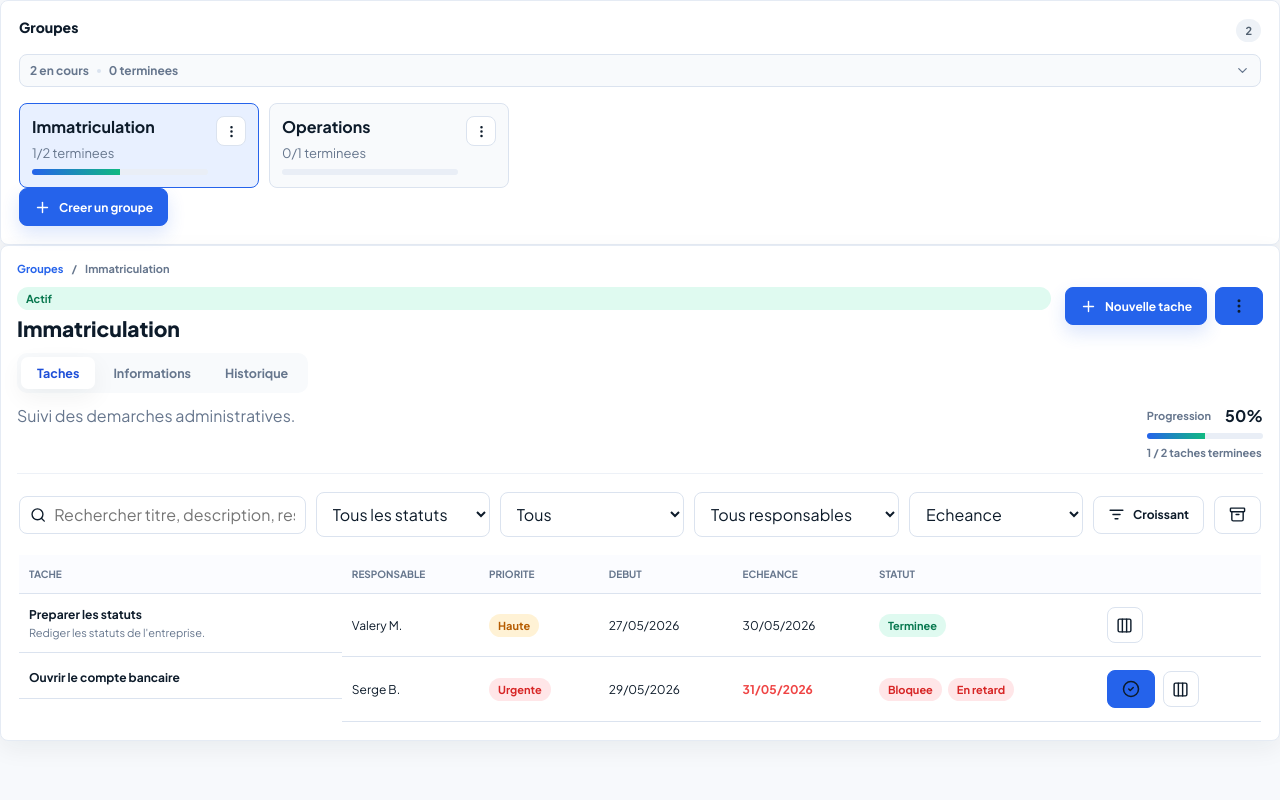
Scenario: TaskWorkspace › shows an empty message when no group matches the completion filter
Click the button "2 en cours 0 terminees": (63, 70) [19, 54, 1261, 87]
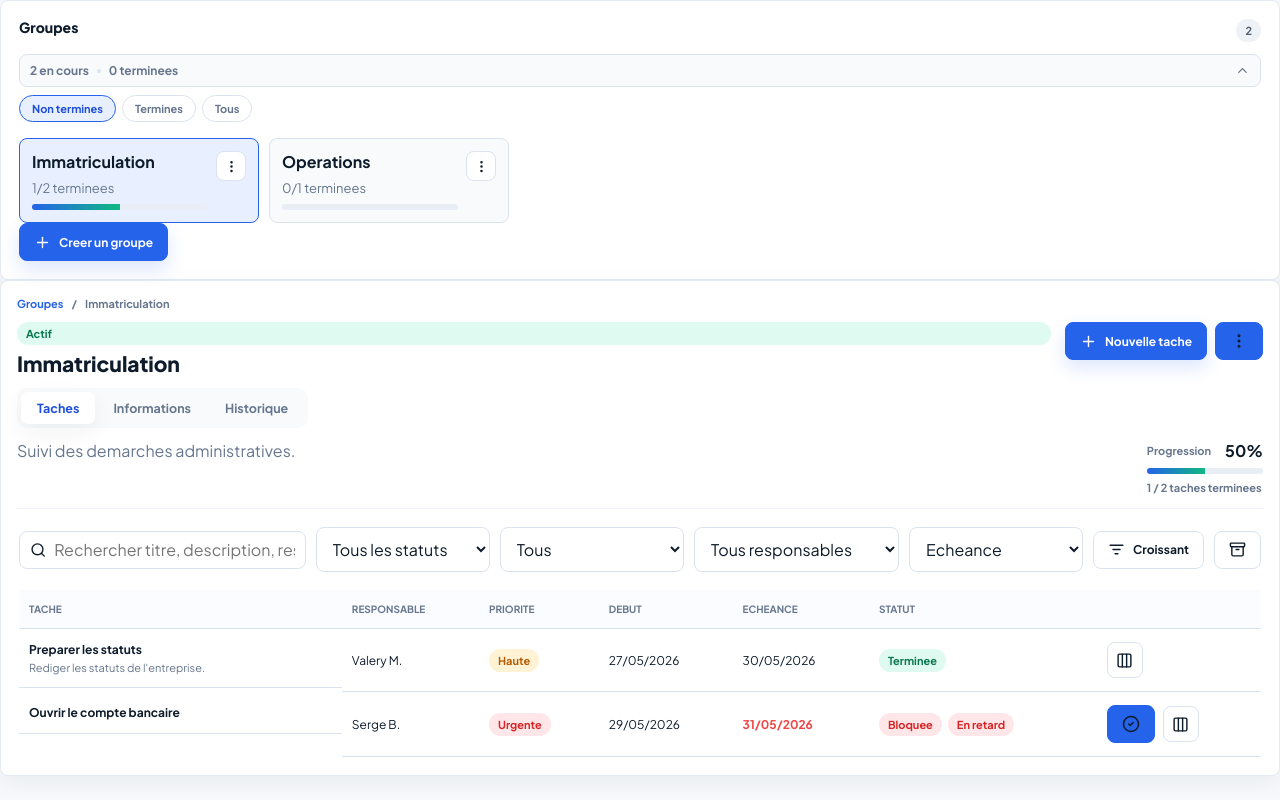
Click the button "Termines": (159, 108) [122, 95, 196, 122]
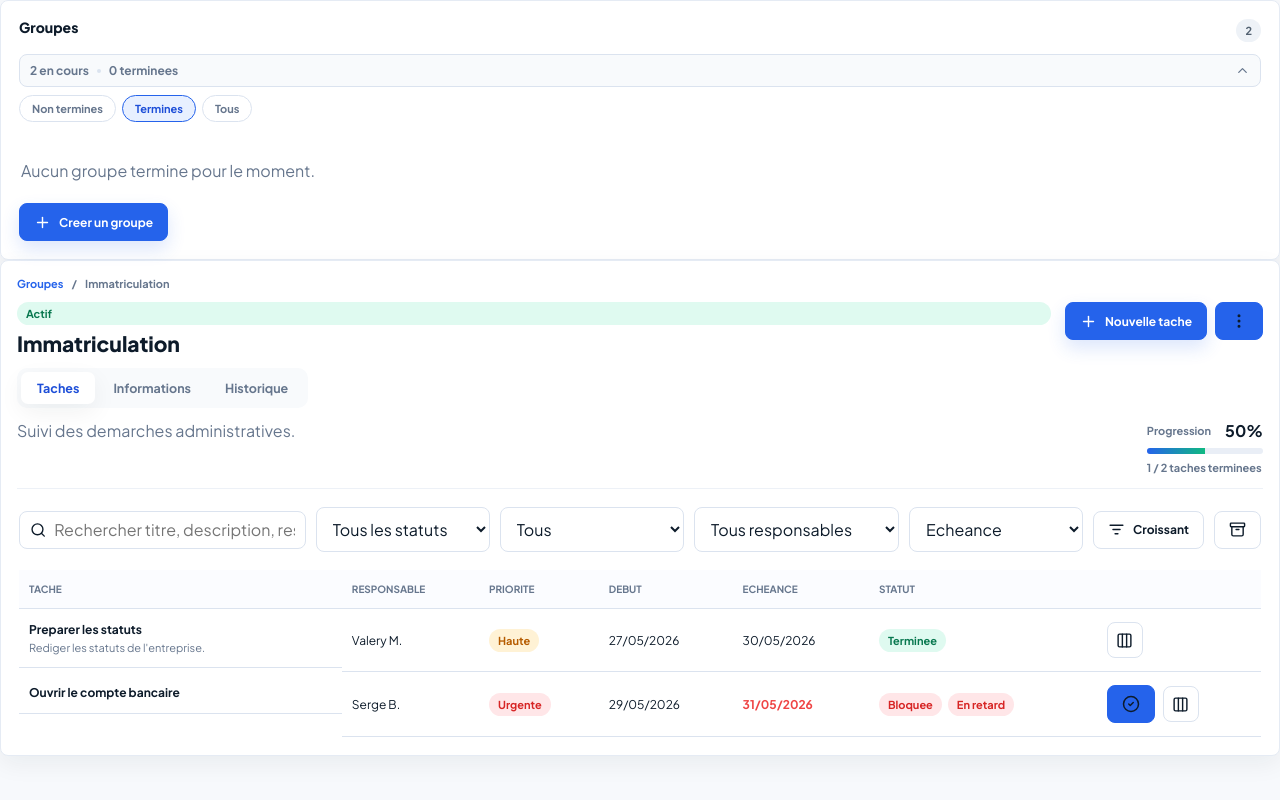
Now the text "Aucun groupe termine pour le moment." is shown, box [21, 160, 315, 181]
